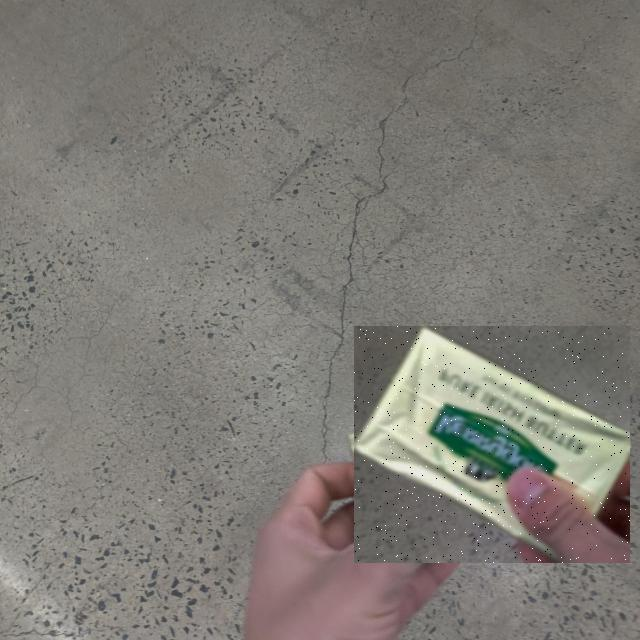Butter: (355, 326, 631, 563)
